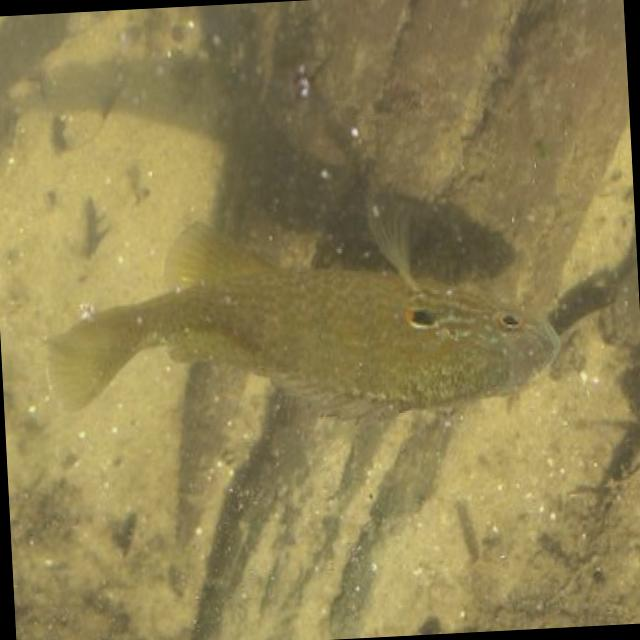Gunes Levregi: (16, 196, 567, 434)
